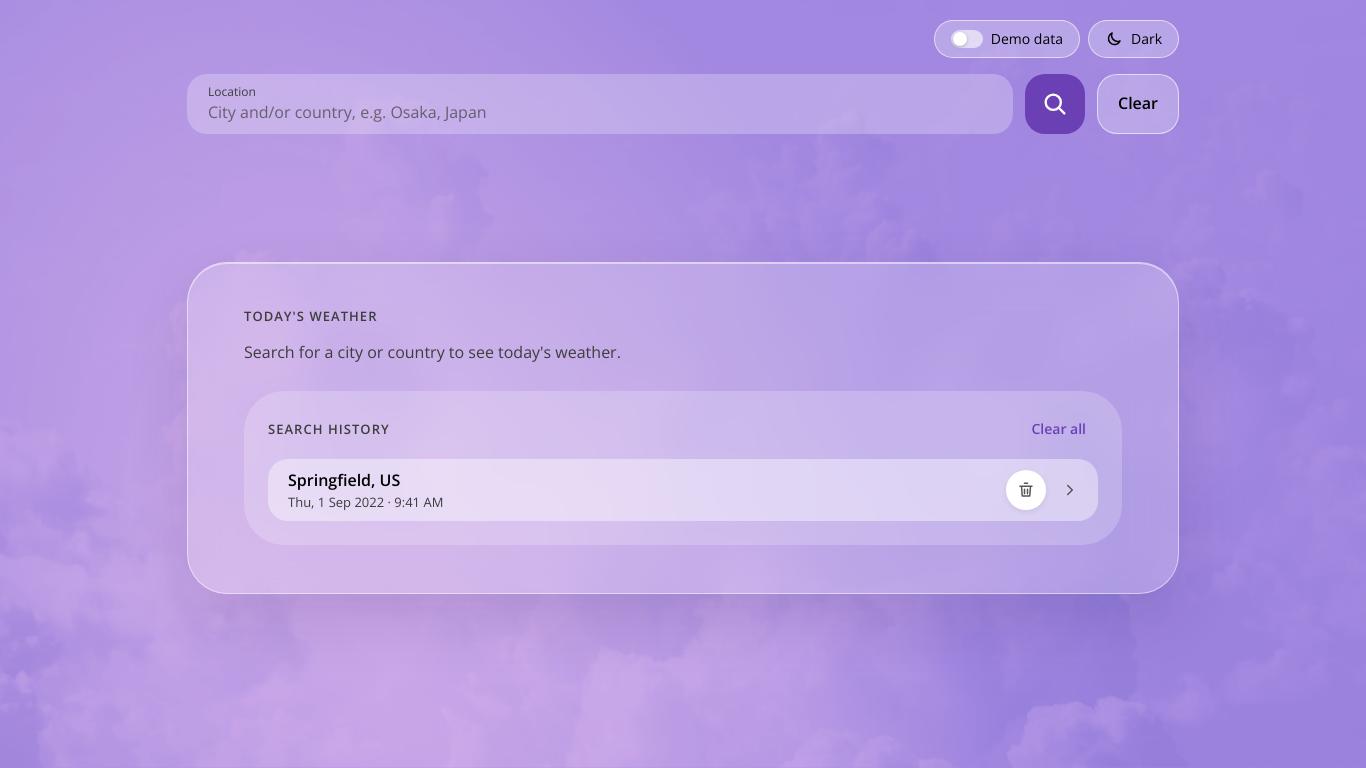
App › search again uses the saved coordinates, so it finds exactly the same place
Click the button named "Search Springfield, US again" at (1070,490), box [1050,470,1090,510]
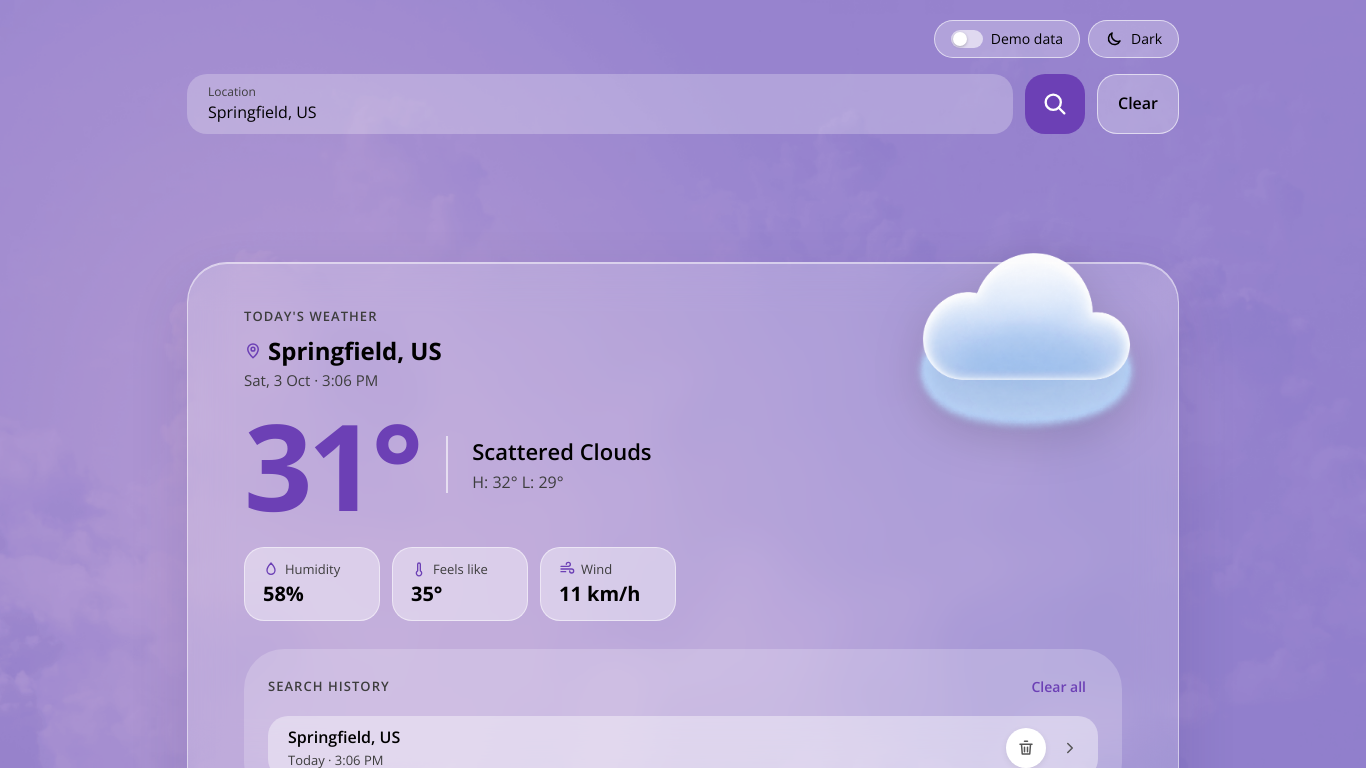
Expected: the text "Springfield, US" is shown, [244,334,442,367]
